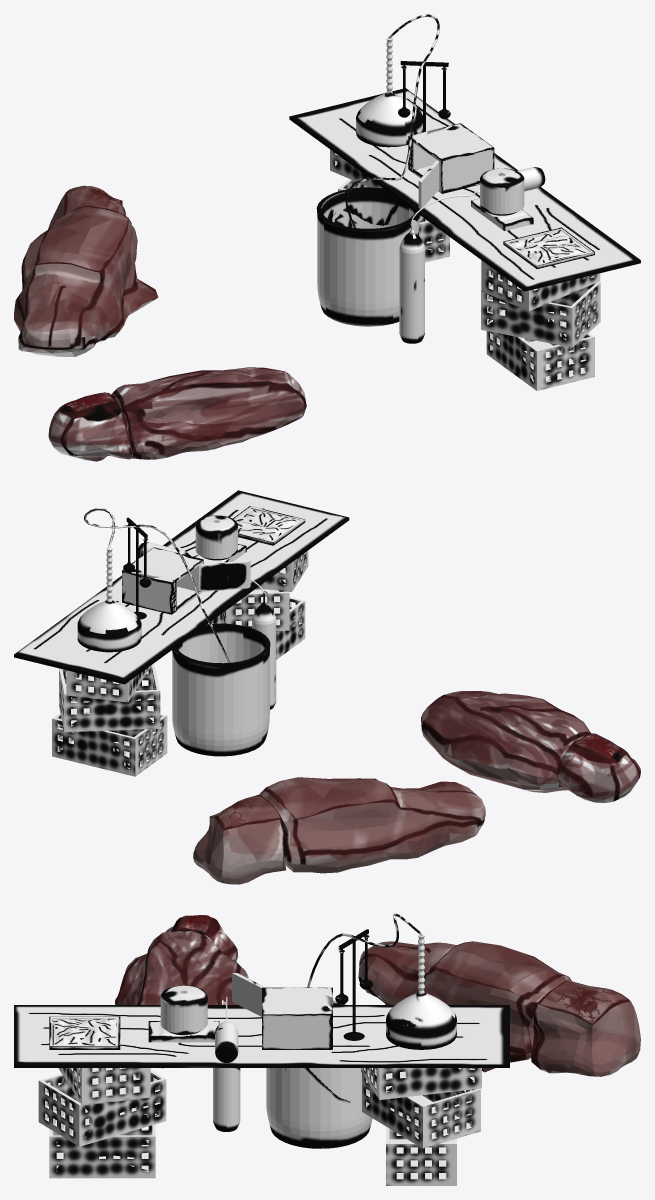
The model's file is lab.fbx.
The picture shows the model from 3 angles, top to bottom: view 1: azimuth 30°, elevation 25°; view 2: azimuth 150°, elevation 25°; view 3: azimuth 270°, elevation 25°; orthographic projection. The views are drawn at different scales.
Visible parts, largest first — view 1: Lab equipment, Body 2, Body, Plywood, Crates, Tray; view 2: Lab equipment, Body, Body 2, Crates, Plywood, Tray; view 3: Lab equipment, Crates, Body, Plywood, Body 2, Tray.
Part boxes in pixels (bbox=[...]): Lab equipment: bbox=[316, 14, 545, 343]; Body 2: bbox=[48, 367, 306, 461]; Body: bbox=[14, 185, 158, 356]; Plywood: bbox=[289, 88, 640, 291]; Crates: bbox=[330, 149, 600, 390]; Tray: bbox=[503, 227, 594, 268]; Lab equipment: bbox=[77, 508, 276, 756]; Body: bbox=[193, 777, 485, 884]; Body 2: bbox=[421, 691, 640, 802]; Crates: bbox=[52, 550, 308, 776]; Plywood: bbox=[14, 490, 349, 684]; Tray: bbox=[233, 506, 305, 545]; Lab equipment: bbox=[148, 913, 456, 1148]; Crates: bbox=[38, 1068, 481, 1185]; Body: bbox=[358, 941, 640, 1076]; Plywood: bbox=[14, 1005, 509, 1067]; Body 2: bbox=[115, 915, 248, 1068]; Tray: bbox=[49, 1016, 120, 1049].
Bounding box in the file's own units: 1726 × 885 × 1770.
